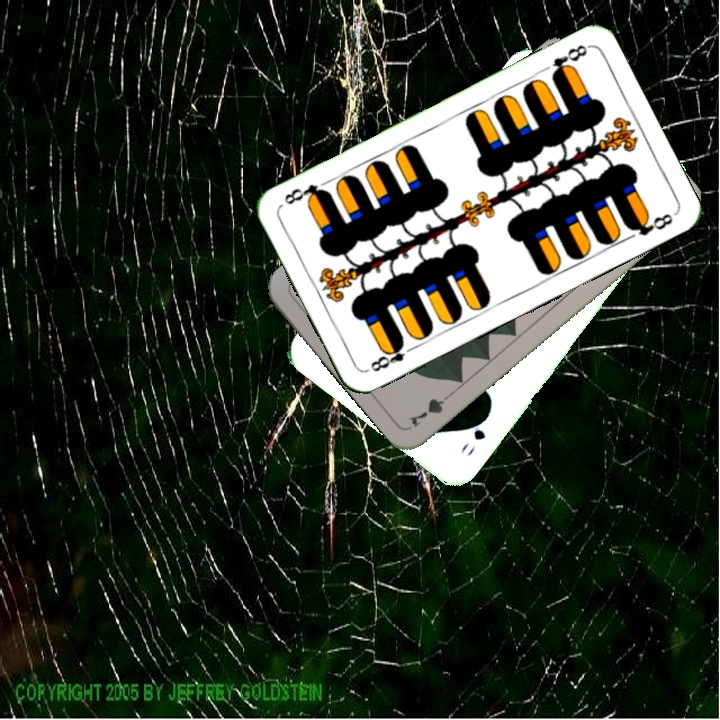E8: (366, 337, 419, 375), (547, 40, 591, 82)
G7: (405, 387, 458, 431)
GO: (456, 411, 492, 458)
